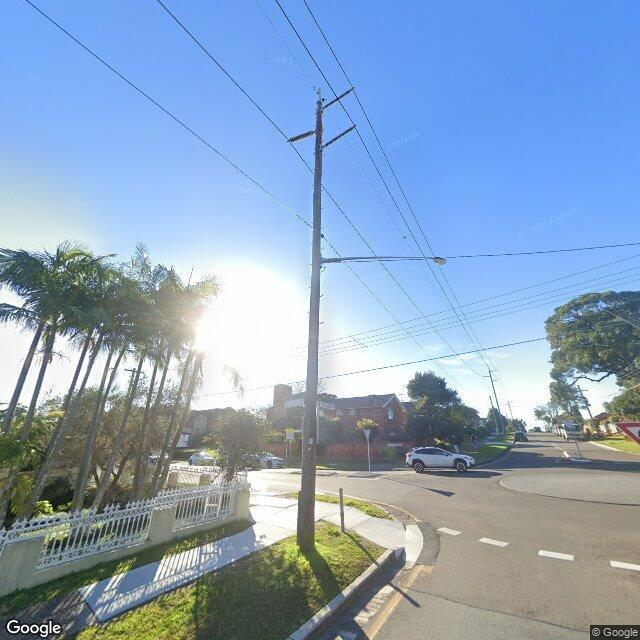HV-transmission: (288, 80, 357, 152), (482, 368, 502, 382)
crossarm: (125, 369, 143, 374), (577, 389, 588, 392)
streetlight: (320, 255, 449, 267)
timber-pole: (296, 100, 324, 548), (488, 369, 506, 434), (578, 385, 600, 435), (127, 368, 135, 400)
